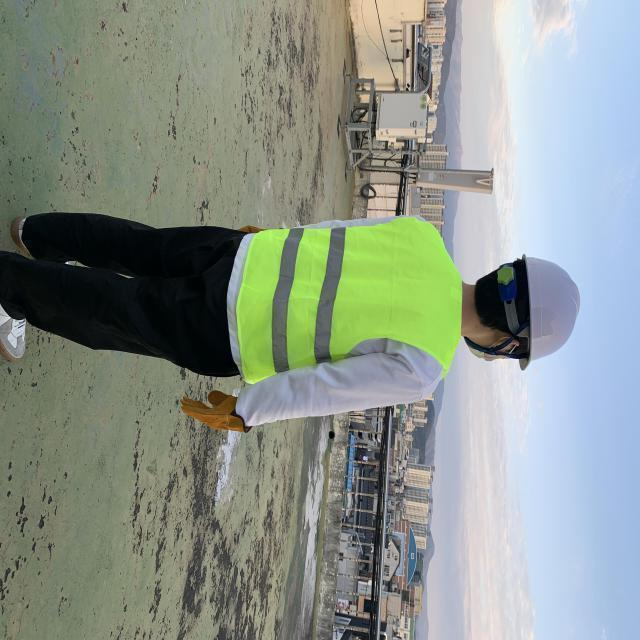gloves: (176, 392, 250, 436)
helmet: (509, 253, 588, 371)
safety_vest: (223, 224, 460, 395)
